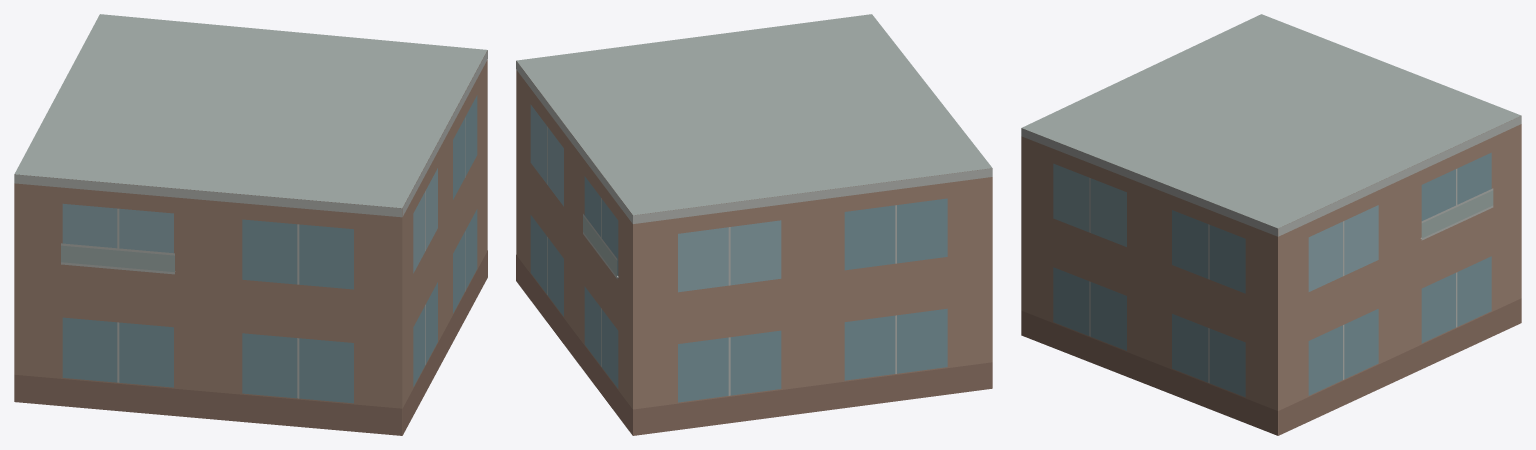
Rendered from survey-upis-32916700.glb.
The picture shows the model from 3 angles, left to right: view 1: azimuth 30°, elevation 25°; view 2: azimuth 150°, elevation 25°; view 3: azimuth 270°, elevation 25°; orthographic projection. The views are drawn at different scales.
Parts seen in each view (by area): view 1: survey-upis-32916700.tmp; view 2: survey-upis-32916700.tmp; view 3: survey-upis-32916700.tmp.
Boxes of the visible parts, x1=… form: survey-upis-32916700.tmp: x1=14, y1=14, x2=487, y2=435; survey-upis-32916700.tmp: x1=516, y1=14, x2=992, y2=435; survey-upis-32916700.tmp: x1=1021, y1=14, x2=1521, y2=435.
Size of the model in its own units: 13.54 by 6.1 by 13.35.
